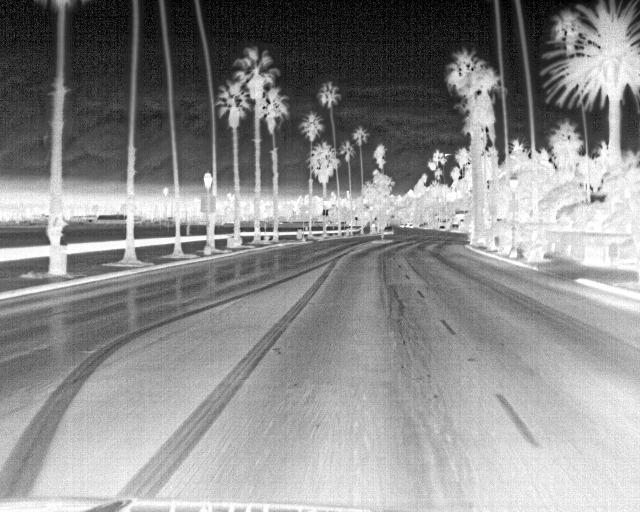car: (381, 224, 395, 237), (447, 222, 460, 234)
